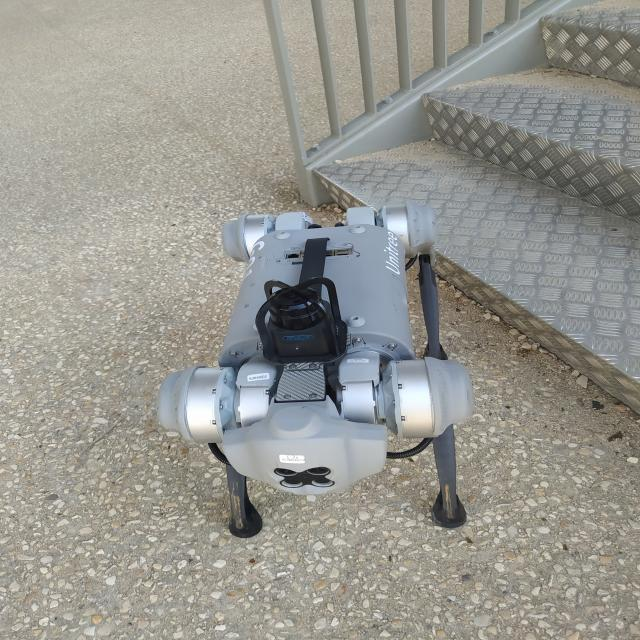unitree-go1-robot: (138, 187, 510, 553)
